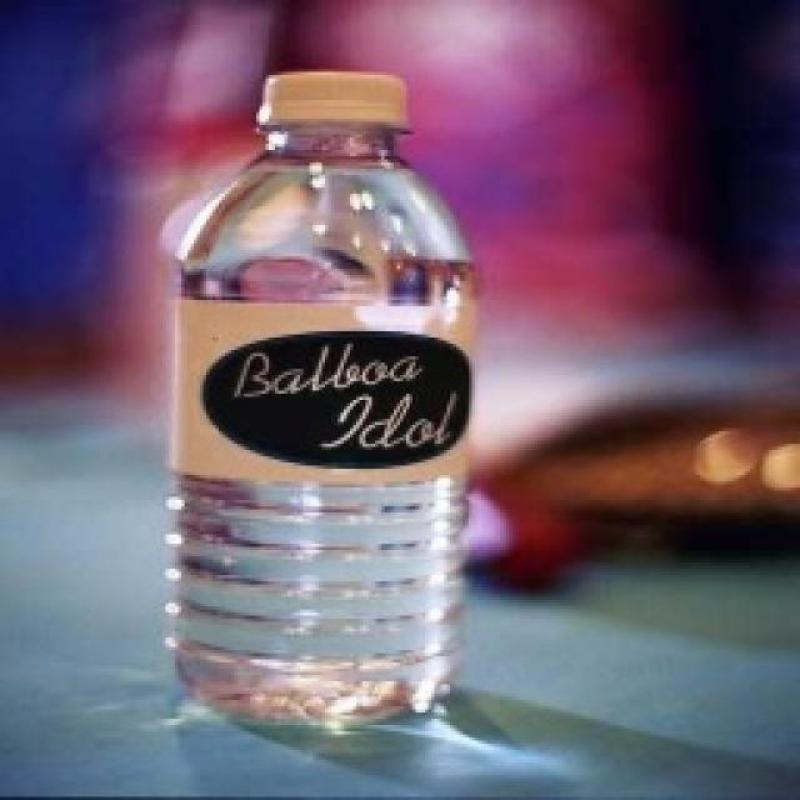botella: (160, 70, 478, 730)
